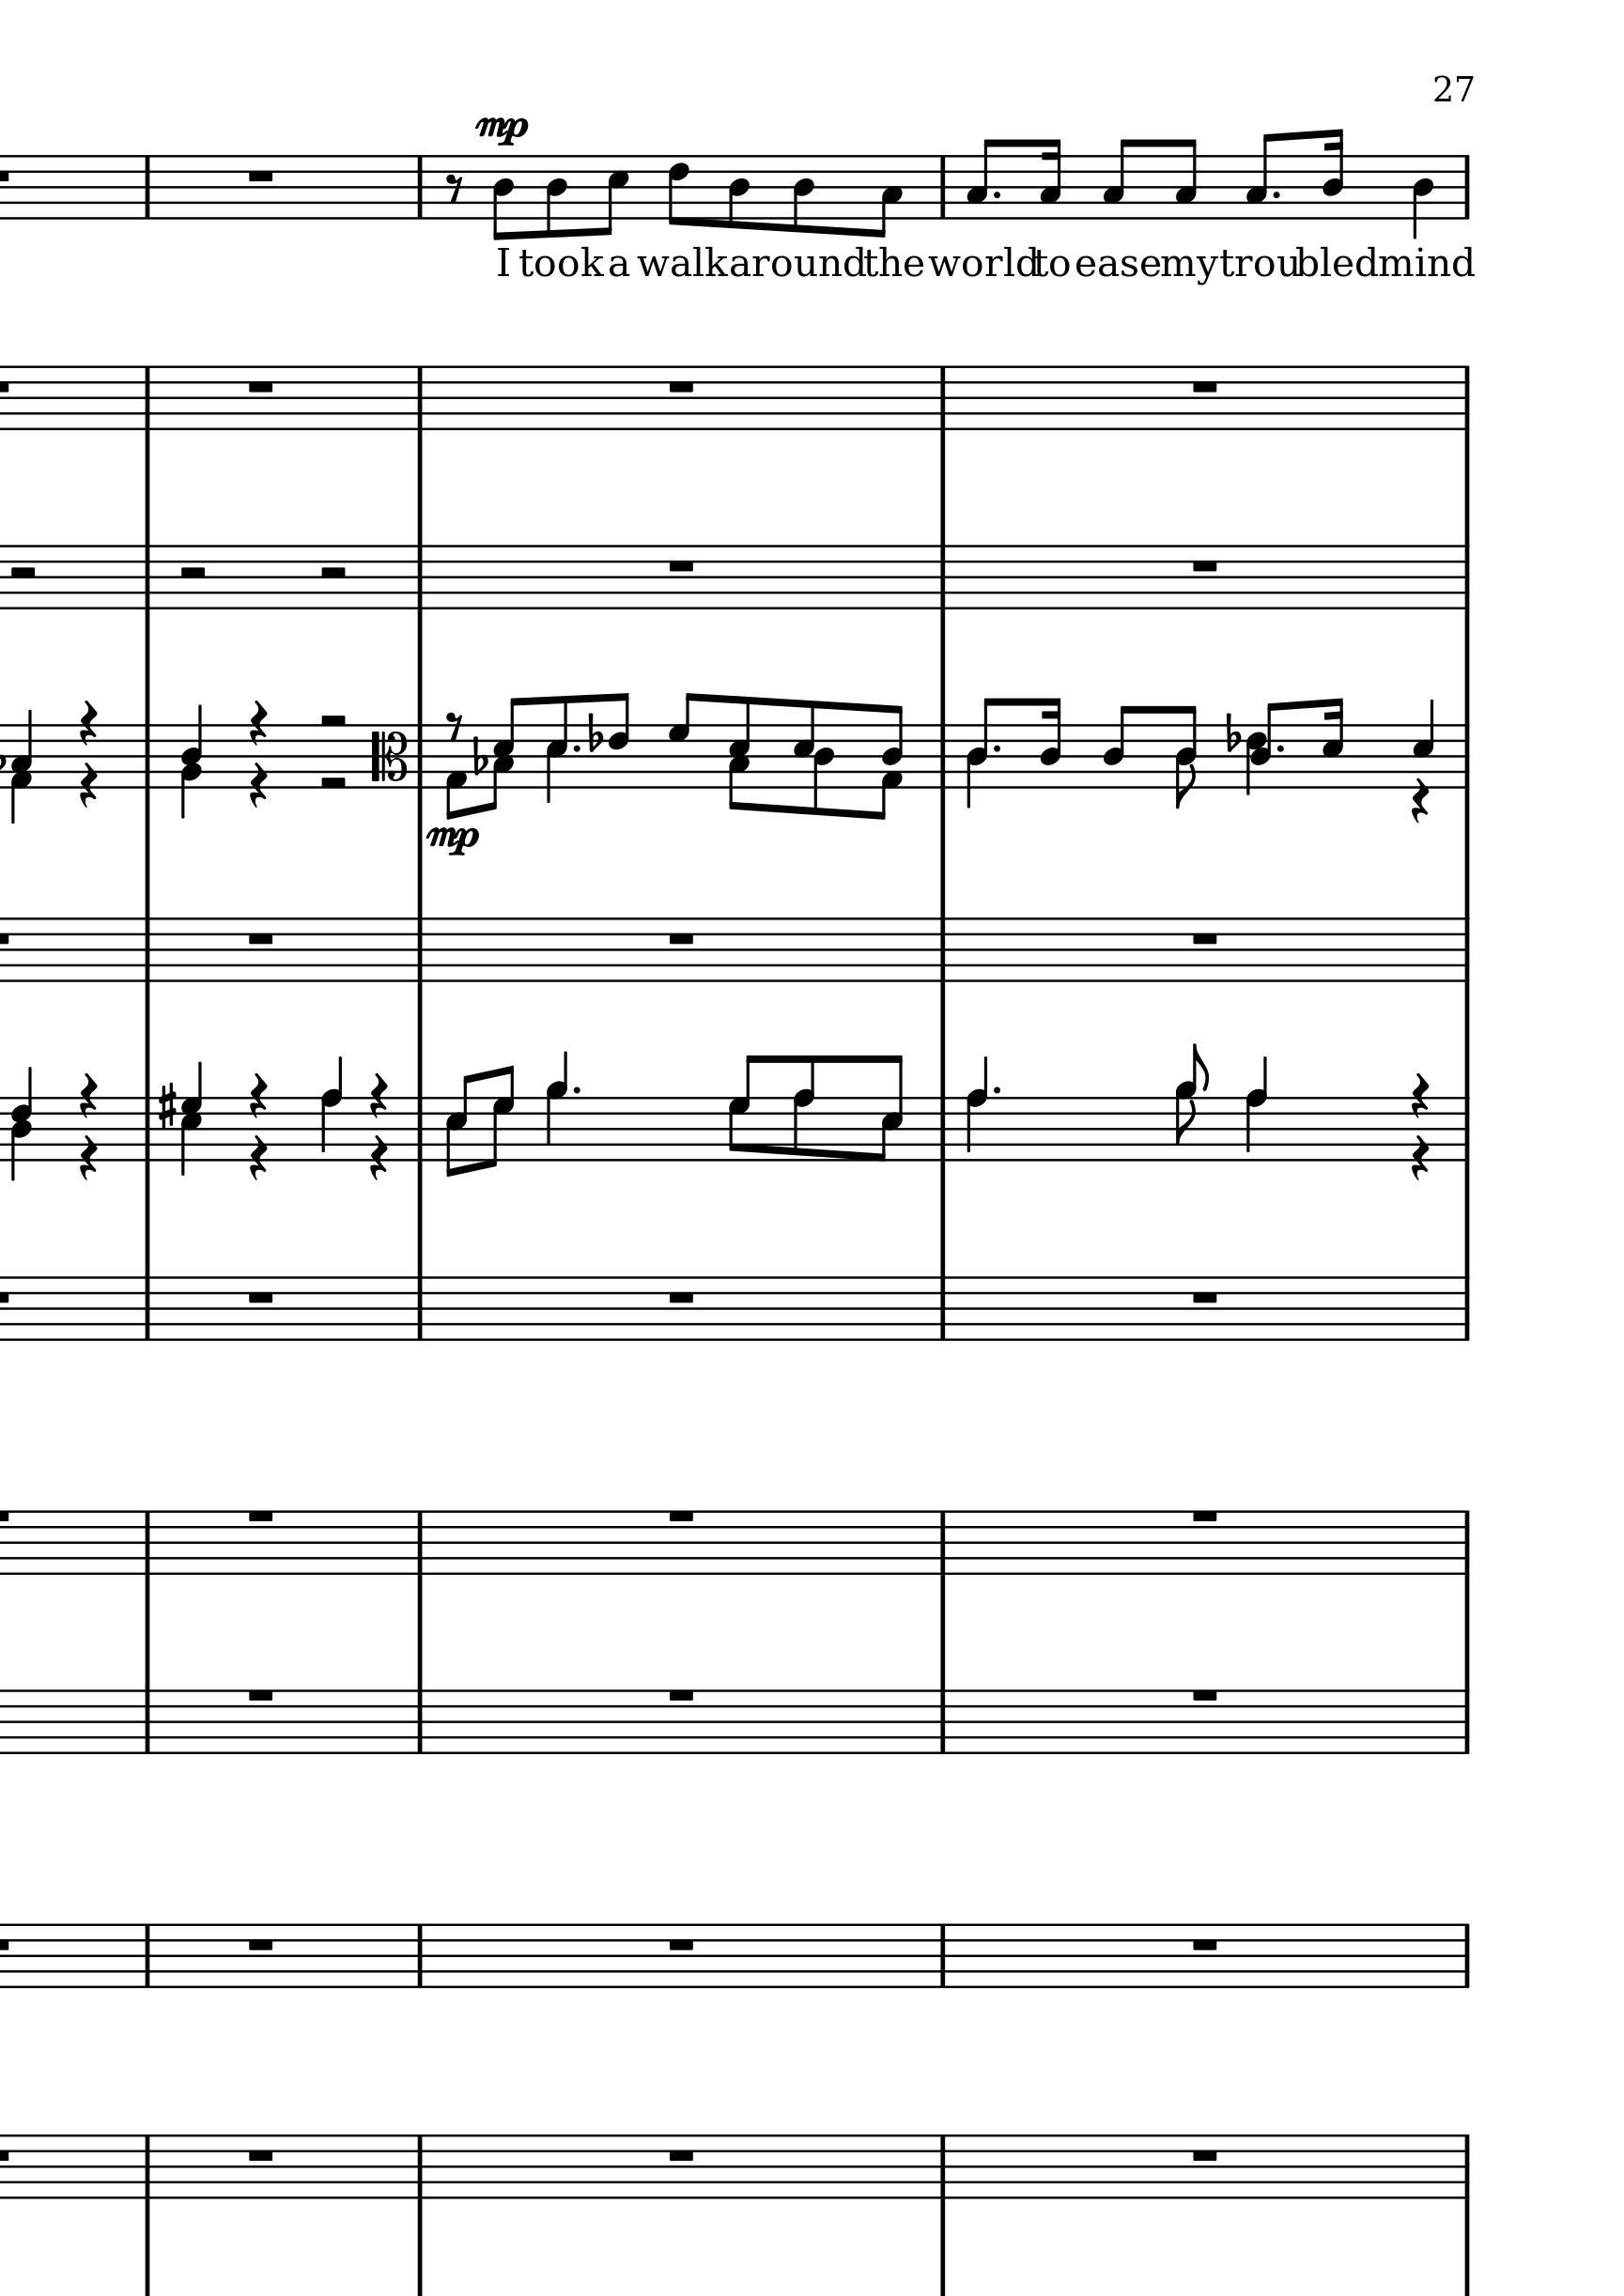16_3: (1039, 137, 1060, 221)
16_4: (1037, 696, 1062, 792)
16_5: (1320, 694, 1343, 792)
2: (1429, 74, 1454, 104)
4_1_3: (9, 710, 35, 824)
4_2_4: (179, 703, 206, 819)
4_4: (1410, 153, 1432, 239)
4_4_6: (9, 1068, 35, 1180)
4_5: (1411, 699, 1434, 792)
4_5_7: (179, 1061, 206, 1179)
7: (1454, 72, 1473, 104)
8_1: (445, 722, 469, 819)
8_1_4: (872, 704, 905, 819)
8_3: (1243, 130, 1274, 221), (868, 153, 902, 239), (965, 137, 995, 221), (1100, 137, 1130, 221), (1172, 137, 1195, 221)
8_3_5: (487, 697, 524, 812), (726, 696, 752, 812)
8_4: (1100, 703, 1132, 791), (1320, 126, 1345, 221), (489, 155, 513, 241), (789, 153, 814, 235), (543, 153, 566, 239), (726, 153, 749, 230)
8_5: (596, 153, 627, 237)
8_6: (606, 690, 629, 791), (664, 153, 691, 228)
8_7: (666, 690, 694, 791)
Cclef: (367, 724, 410, 789)
Flat: (471, 733, 487, 780), (584, 711, 601, 752), (1223, 711, 1239, 755)
Rests1: (243, 376, 278, 397), (1186, 376, 1222, 397), (663, 555, 698, 576), (1186, 555, 1222, 576), (1186, 1286, 1222, 1307), (1186, 1505, 1222, 1527), (243, 1685, 278, 1706), (663, 1685, 698, 1706), (1186, 1685, 1222, 1706), (243, 2145, 278, 2166), (663, 2145, 698, 2166), (1186, 2145, 1222, 2166), (664, 376, 698, 397), (243, 167, 278, 186), (663, 929, 698, 949), (1186, 928, 1222, 947), (243, 1288, 278, 1307), (243, 1505, 278, 1525), (663, 1505, 698, 1525), (243, 1934, 278, 1953), (663, 1934, 698, 1953), (1186, 1934, 1222, 1953), (244, 928, 278, 947), (664, 1288, 698, 1307)
Rests2: (174, 562, 209, 583), (315, 773, 350, 792), (316, 710, 350, 729), (5, 562, 37, 581), (316, 564, 350, 581)
Rests4: (76, 697, 98, 748), (76, 1070, 98, 1121), (246, 1070, 269, 1121), (366, 1133, 388, 1184), (76, 1135, 98, 1184), (366, 1072, 388, 1121), (76, 762, 98, 810), (248, 1133, 269, 1184), (1408, 1072, 1429, 1119), (1408, 1135, 1429, 1182), (248, 699, 267, 748), (248, 762, 267, 810), (1410, 778, 1429, 826)
Rests8: (443, 172, 462, 206), (443, 711, 462, 741)
Sharp: (156, 1080, 178, 1131)
Single_barline: (135, 724, 158, 789), (408, 1096, 431, 1161), (408, 546, 431, 610), (135, 365, 156, 430), (932, 365, 953, 430), (135, 545, 156, 610), (135, 917, 156, 982), (408, 917, 429, 982), (932, 917, 953, 982), (135, 1690, 156, 1755), (1455, 1924, 1476, 1989), (932, 546, 953, 610), (1455, 1098, 1476, 1161), (932, 1277, 953, 1340), (135, 1511, 156, 1574), (410, 1511, 431, 1574), (932, 1511, 953, 1574), (932, 1692, 953, 1755), (932, 1925, 953, 1989), (932, 2136, 953, 2199), (135, 2136, 156, 2198), (410, 2136, 431, 2198), (1455, 2136, 1476, 2198), (410, 365, 429, 430), (1455, 365, 1475, 430), (1455, 545, 1475, 610), (137, 1096, 156, 1161), (933, 1096, 953, 1161), (410, 1690, 429, 1755), (1455, 1690, 1475, 1755), (932, 156, 951, 220), (1455, 156, 1475, 220), (410, 724, 429, 787), (1455, 726, 1475, 789), (1455, 919, 1475, 982), (137, 1277, 156, 1340), (410, 1277, 429, 1340), (1455, 1277, 1475, 1340), (1455, 1511, 1475, 1574), (410, 156, 429, 218), (137, 156, 155, 220), (933, 726, 951, 789), (137, 1925, 155, 1989), (411, 1925, 429, 1987)
dot: (568, 1084, 582, 1096), (990, 188, 1002, 200), (990, 743, 1002, 755), (1272, 743, 1285, 755), (990, 1084, 1002, 1096), (1269, 188, 1280, 200), (569, 743, 582, 754)
mp: (422, 822, 482, 857), (475, 114, 529, 146)
